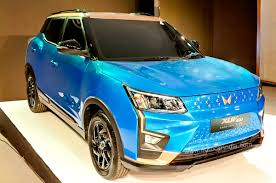XUV 400: (24, 7, 265, 181)
